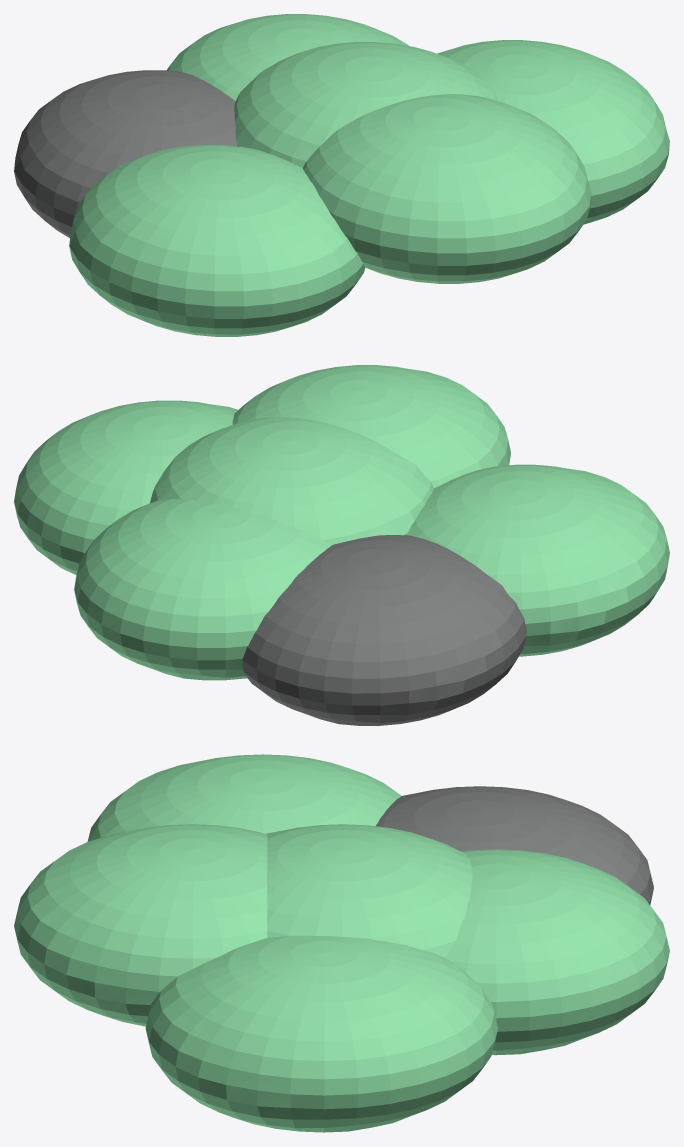
The model's file is rocks.glb.
The picture shows the model from 3 angles, top to bottom: view 1: azimuth 30°, elevation 25°; view 2: azimuth 150°, elevation 25°; view 3: azimuth 270°, elevation 25°; orthographic projection. The views are drawn at different scales.
Parts seen in each view (by area): view 1: Sphere.004, Sphere.001, Sphere.005, Sphere.003, Sphere.006, Sphere.002; view 2: Sphere.005, Sphere.004, Sphere.002, Sphere.006, Sphere.003, Sphere.001; view 3: Sphere.003, Sphere.001, Sphere.002, Sphere.006, Sphere.004, Sphere.005.
Part boxes in pixels (left/top/right/bottom): Sphere.004: left=69, top=145, right=365, bottom=336; Sphere.001: left=302, top=94, right=591, bottom=283; Sphere.005: left=14, top=70, right=237, bottom=237; Sphere.003: left=437, top=40, right=669, bottom=224; Sphere.006: left=234, top=42, right=498, bottom=167; Sphere.002: left=167, top=14, right=408, bottom=100; Sphere.005: left=242, top=535, right=526, bottom=725; Sphere.004: left=407, top=464, right=669, bottom=656; Sphere.002: left=74, top=498, right=331, bottom=680; Sphere.006: left=150, top=417, right=434, bottom=544; Sphere.003: left=14, top=400, right=237, bottom=575; Sphere.001: left=232, top=365, right=510, bottom=487; Sphere.003: left=145, top=935, right=497, bottom=1132; Sphere.001: left=14, top=824, right=267, bottom=1026; Sphere.002: left=446, top=849, right=669, bottom=1055; Sphere.006: left=266, top=824, right=472, bottom=957; Sphere.004: left=87, top=754, right=401, bottom=841; Sphere.005: left=375, top=786, right=653, bottom=904.
Size of the model in its own units: 1.56 by 0.453 by 1.38.
